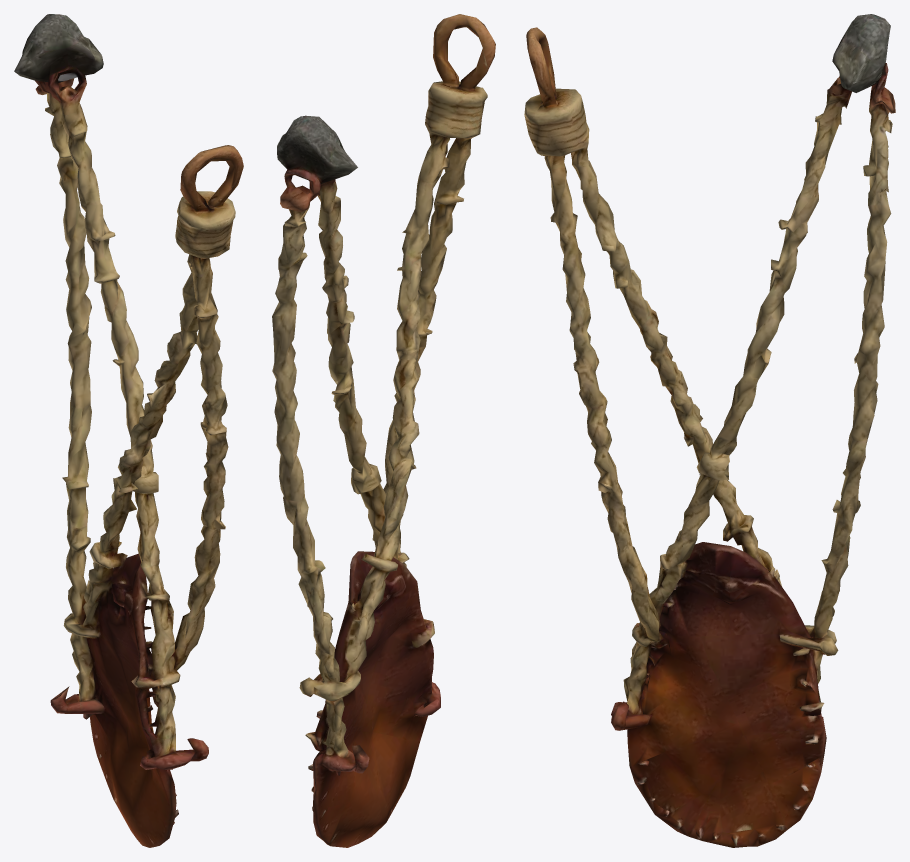
Rendered from honda.glb.
The picture shows the model from 3 angles, left to right: view 1: azimuth 30°, elevation 25°; view 2: azimuth 150°, elevation 25°; view 3: azimuth 270°, elevation 25°; orthographic projection. The views are drawn at different scales.
Visible parts, largest first — view 1: tripo_node_ed670084-493a-4645-91a6-57c503866691; view 2: tripo_node_ed670084-493a-4645-91a6-57c503866691; view 3: tripo_node_ed670084-493a-4645-91a6-57c503866691.
Part boxes in pixels (left/top/right/bottom): tripo_node_ed670084-493a-4645-91a6-57c503866691: left=14, top=14, right=243, bottom=847; tripo_node_ed670084-493a-4645-91a6-57c503866691: left=272, top=14, right=495, bottom=847; tripo_node_ed670084-493a-4645-91a6-57c503866691: left=524, top=14, right=895, bottom=847.
Size of the model in its own units: 0.1211 by 0.9993 by 0.4083.
1 material, 1 textured.
